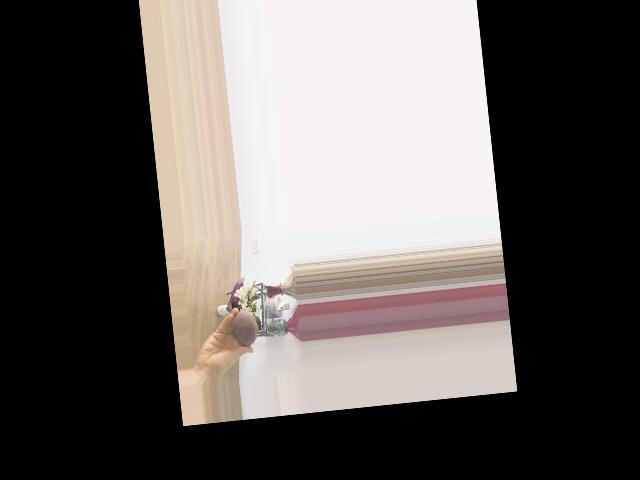beet: (211, 308, 263, 349)
